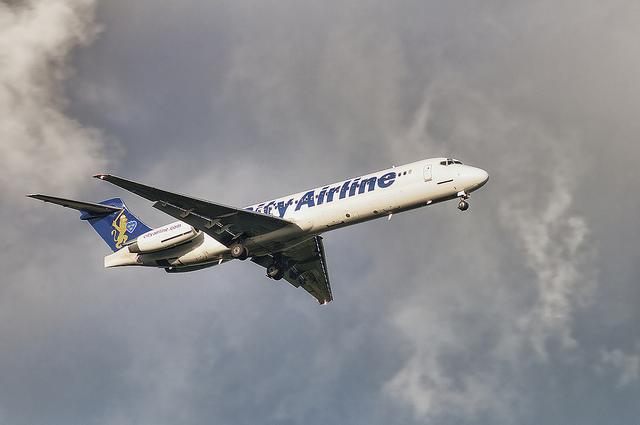airplane: (22, 155, 491, 305)
